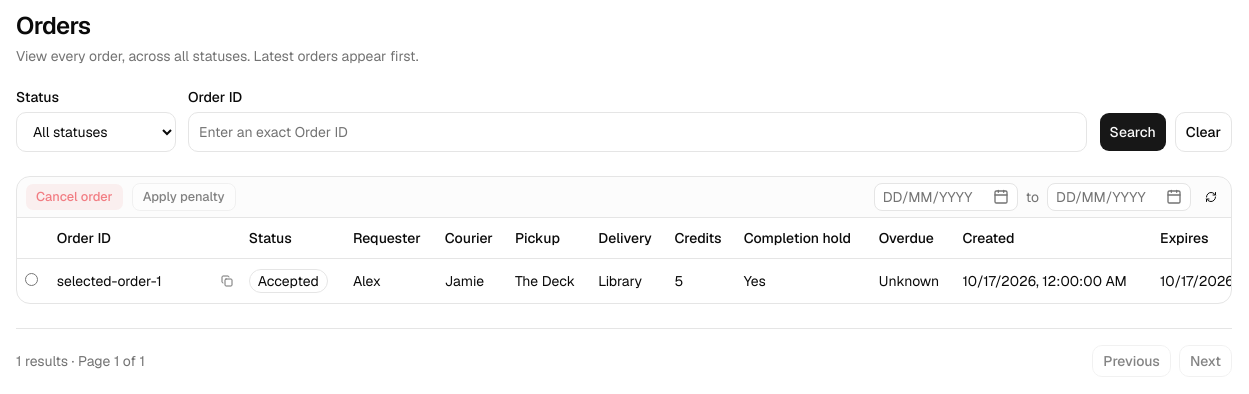
Admin Order row actions › rejects an inverted calendar range without querying and clears all date filters
The width and height of the screenshot is (1249, 394).
Expected: the radio button named "Select order selected-order-1" is shown, [25, 272, 38, 286]
In the date field named "Orders created on or after": (946, 197) [874, 183, 1018, 211], type "2026-10-18"
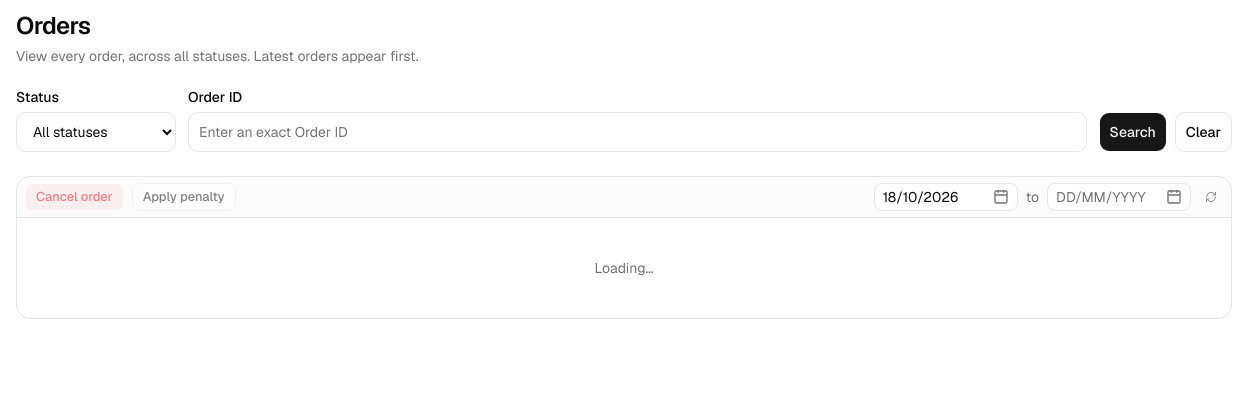
In the date field named "Orders created on or before": (1119, 197) [1047, 183, 1191, 211], type "2026-10-17"
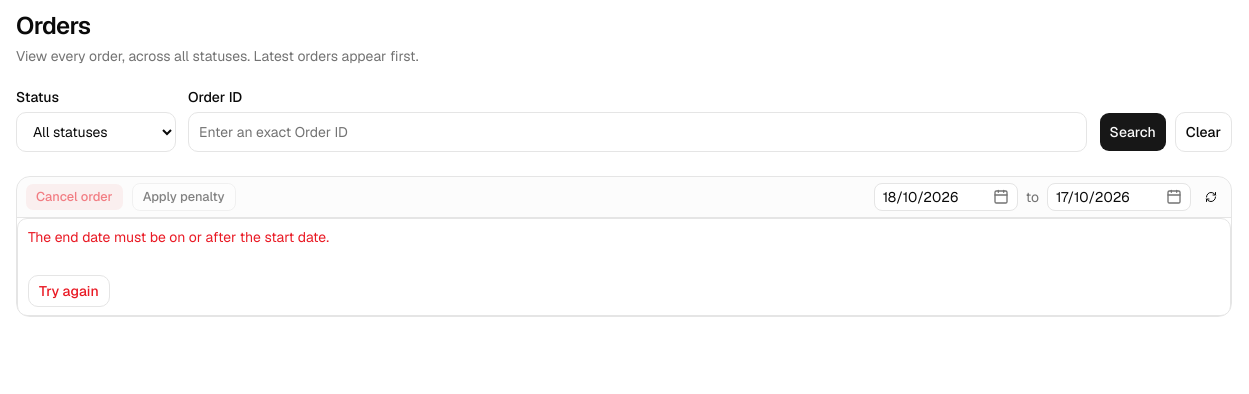
Now the message shows "end date", box [28, 228, 329, 246]
Click the button "Clear": click(1203, 132) [1175, 112, 1232, 152]
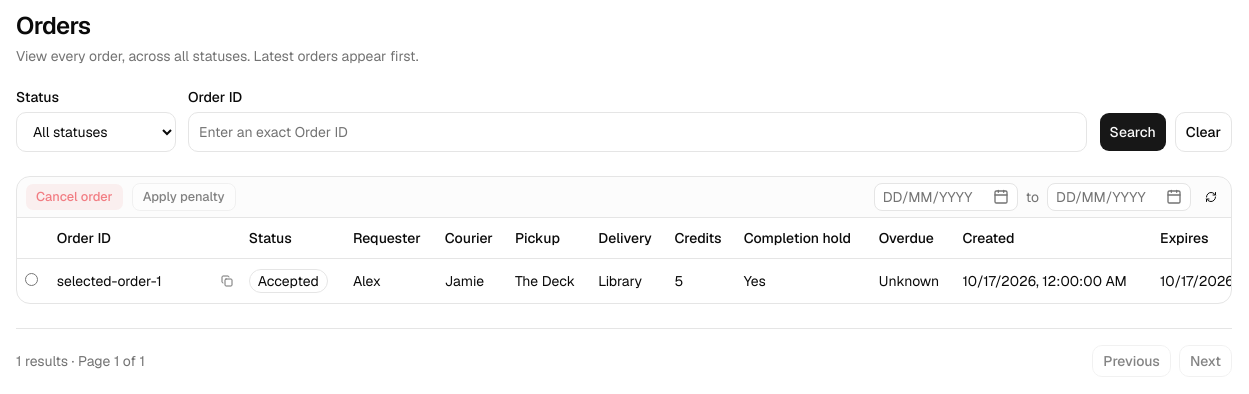
Expected: the date field named "Orders created on or after" is empty, [874, 183, 1018, 211]
Now the radio button named "Select order selected-order-1" is shown, box [25, 272, 38, 286]
